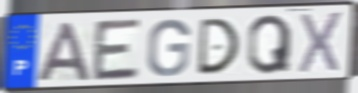A: (35, 20, 93, 83)
D: (195, 16, 241, 77)
E: (91, 16, 144, 83)
G: (144, 17, 193, 79)
Q: (246, 13, 294, 77)
X: (296, 9, 345, 75)
